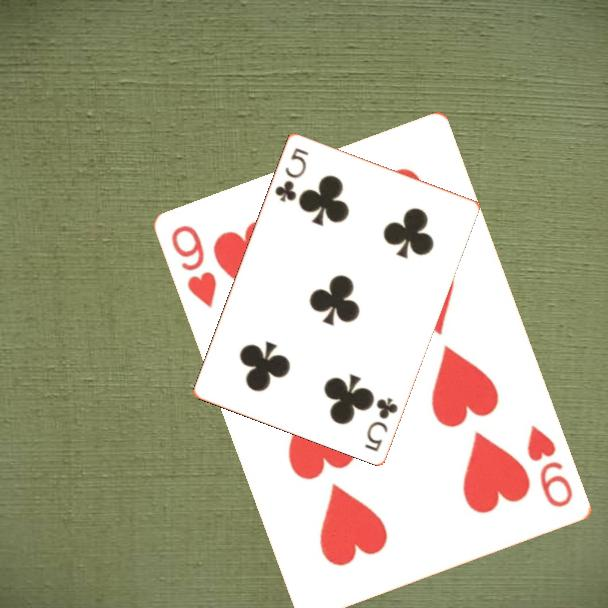c05: (271, 144, 311, 205), (361, 393, 401, 454)
h09: (524, 422, 577, 511), (168, 221, 220, 311)
